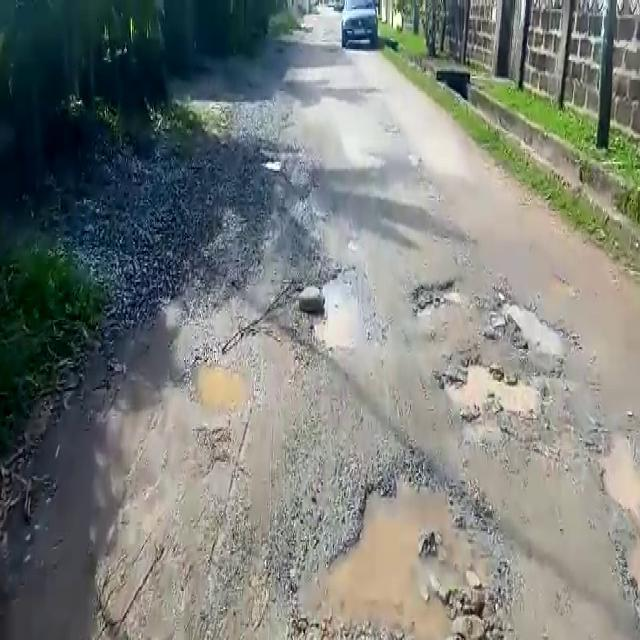pothole: (275, 464, 511, 634), (493, 288, 576, 360), (441, 360, 531, 417), (314, 270, 373, 353), (187, 351, 254, 416), (598, 433, 640, 524), (408, 277, 464, 315), (623, 528, 640, 608)
